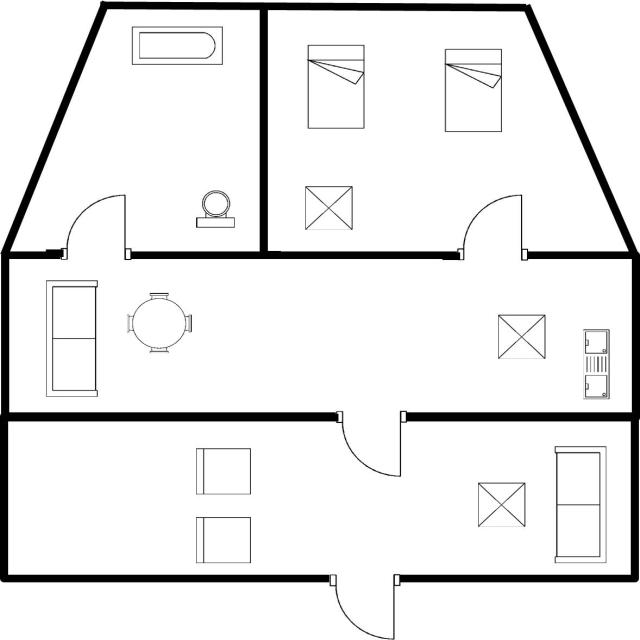bed: (300, 39, 370, 135), (440, 44, 506, 137)
coffee_table: (471, 477, 531, 532), (489, 311, 551, 364), (299, 180, 356, 233)
large_sink: (188, 186, 240, 232)
large_sofa: (41, 273, 104, 404), (547, 440, 609, 568)
round_table: (119, 288, 199, 359)
small_sofa: (191, 511, 258, 569), (189, 442, 258, 498)
tub: (125, 21, 228, 71)
twin_sink: (575, 325, 615, 405)
